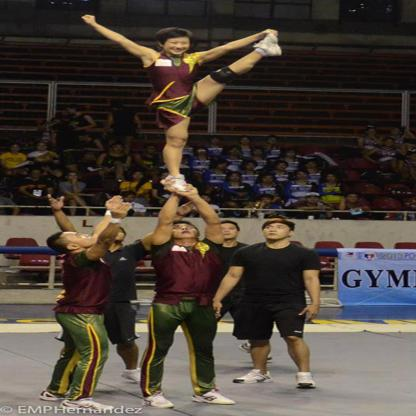face: (163, 38, 190, 55), (64, 232, 95, 245), (265, 224, 290, 240), (172, 224, 198, 239), (219, 226, 239, 239), (106, 229, 125, 241), (347, 196, 359, 203), (307, 197, 319, 203), (296, 173, 308, 179), (246, 163, 256, 170), (161, 174, 171, 181), (32, 172, 42, 179), (263, 177, 274, 183), (219, 164, 228, 171), (231, 176, 241, 182), (125, 196, 135, 202), (68, 175, 78, 181), (37, 145, 47, 151), (186, 139, 194, 146), (368, 131, 377, 137), (327, 176, 336, 182), (254, 150, 263, 156), (202, 198, 211, 204), (231, 149, 241, 154), (115, 148, 125, 153), (392, 130, 400, 136), (386, 141, 394, 147), (288, 152, 296, 158), (134, 174, 142, 180), (12, 147, 20, 153), (307, 164, 316, 169), (41, 157, 50, 162), (23, 169, 30, 175), (242, 140, 250, 145), (197, 150, 207, 154), (278, 165, 286, 170), (148, 148, 156, 153), (229, 205, 237, 210), (262, 199, 271, 203), (78, 137, 87, 141), (178, 158, 185, 163), (54, 121, 61, 126), (67, 110, 74, 115), (411, 155, 416, 161), (45, 167, 51, 172), (50, 170, 56, 175), (212, 140, 219, 144), (53, 161, 60, 165), (270, 140, 276, 144), (87, 158, 93, 161), (111, 143, 115, 147), (137, 157, 141, 161), (30, 163, 34, 166)
